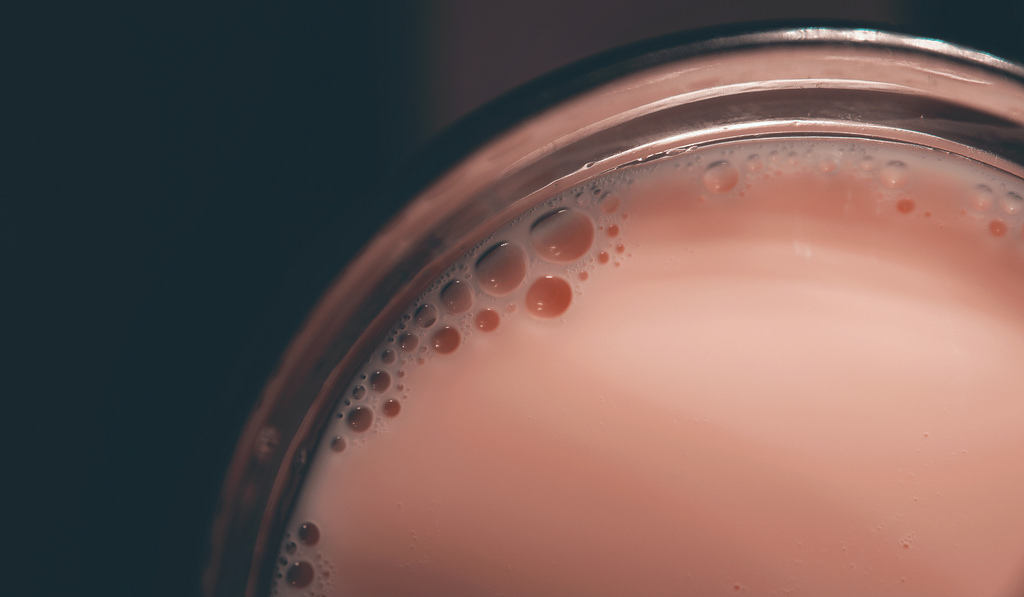glass of milk: (370, 162, 991, 597)
